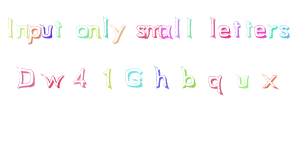1: (99, 64, 116, 90)
4: (71, 64, 91, 92)
D: (13, 64, 38, 91)
G: (123, 65, 147, 88)
I: (4, 13, 16, 41)
a: (160, 22, 174, 41)
b: (176, 64, 200, 91)
e: (218, 20, 233, 44), (254, 21, 267, 43)
h: (150, 65, 173, 93)
l: (100, 12, 112, 43), (205, 16, 219, 42), (184, 16, 197, 41), (172, 16, 184, 41)
m: (145, 22, 163, 43)
n: (88, 23, 102, 41), (17, 22, 28, 42)
o: (76, 22, 90, 42)
p: (26, 23, 43, 46)
q: (205, 72, 228, 100)
r: (265, 22, 280, 42)
s: (134, 20, 146, 45), (278, 21, 292, 42)
t: (54, 19, 70, 43), (233, 20, 244, 42), (243, 17, 253, 41)
u: (234, 70, 252, 93), (40, 19, 54, 42)
w: (40, 68, 68, 90)
x: (259, 69, 283, 92)
y: (111, 20, 126, 46)
